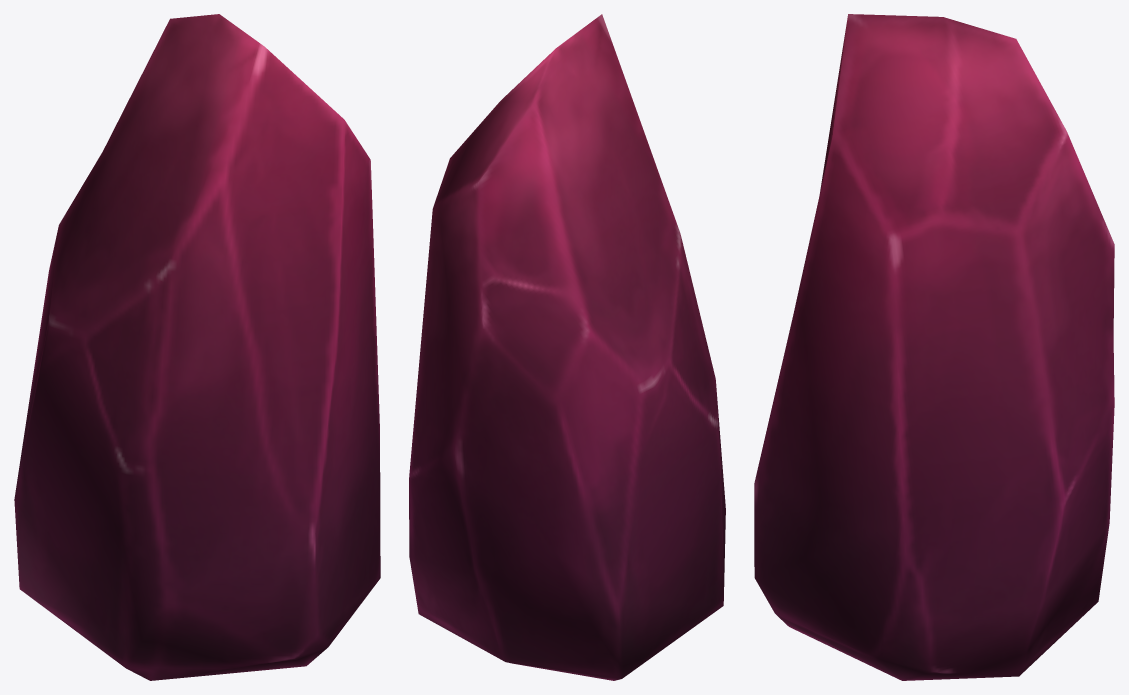
File: VEG0510011.fbx
The picture shows the model from 3 angles, left to right: view 1: azimuth 30°, elevation 25°; view 2: azimuth 150°, elevation 25°; view 3: azimuth 270°, elevation 25°; orthographic projection. The views are drawn at different scales.
Parts seen in each view (by area): view 1: smVEG0510011; view 2: smVEG0510011; view 3: smVEG0510011.
Part boxes in pixels (box(x1,y1,x2,y2)): smVEG0510011: box(14, 14, 380, 680); smVEG0510011: box(409, 14, 725, 680); smVEG0510011: box(754, 14, 1114, 680).
Bounding box in the file's own units: 19.81 × 40.41 × 21.65.
Materials: 1 (1 with a texture image).
